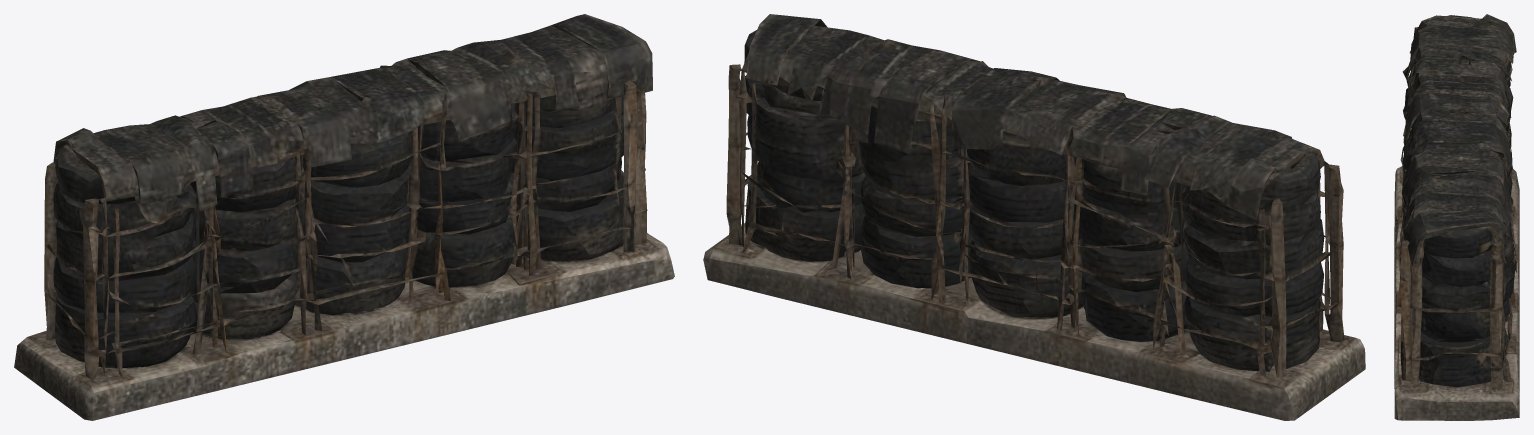
The model's file is tire_wall.glb.
The picture shows the model from 3 angles, left to right: view 1: azimuth 30°, elevation 25°; view 2: azimuth 150°, elevation 25°; view 3: azimuth 270°, elevation 25°; orthographic projection. The views are drawn at different scales.
Parts seen in each view (by area): view 1: tire_wall; view 2: tire_wall; view 3: tire_wall.
Boxes of the visible parts, left/top/right/bottom form: tire_wall: left=14, top=14, right=674, bottom=420; tire_wall: left=703, top=14, right=1365, bottom=420; tire_wall: left=1394, top=14, right=1519, bottom=420.
Bounding box in the file's own units: 1.9 × 0.7227 × 0.4308.
Materials: 1 (1 with a texture image).
